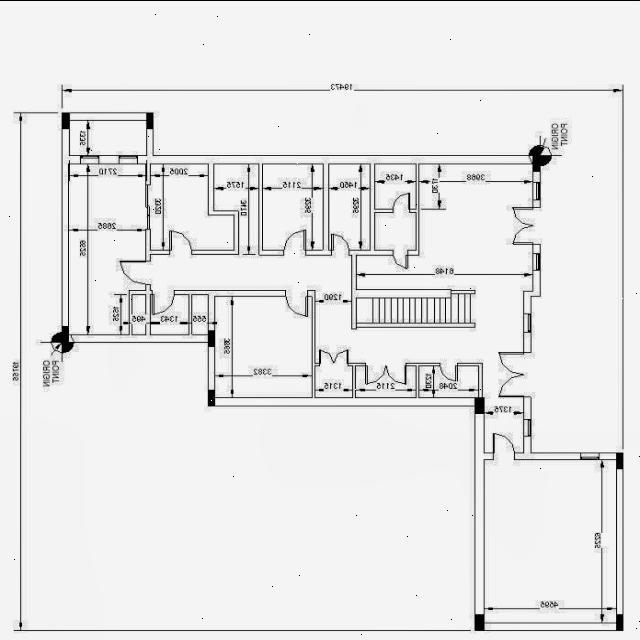Column: (474, 396, 484, 413), (474, 613, 484, 630), (61, 325, 70, 341), (616, 613, 624, 630), (532, 154, 540, 171), (62, 112, 70, 128), (616, 452, 624, 468), (146, 112, 154, 128), (208, 388, 215, 406), (208, 329, 215, 346)
Door: (283, 228, 313, 254), (119, 260, 151, 284), (285, 289, 313, 316), (150, 288, 175, 314), (493, 432, 515, 459), (170, 229, 192, 254), (328, 233, 349, 255), (392, 192, 410, 212), (440, 362, 458, 381), (392, 248, 408, 268)
Double-Door: (498, 351, 532, 396), (512, 206, 541, 244), (365, 362, 407, 384), (319, 348, 349, 366)
Sliding Door: (145, 183, 151, 229)
Staircase: (357, 289, 523, 322)
Window: (80, 154, 100, 164), (118, 154, 138, 164), (524, 312, 532, 332), (532, 181, 540, 199), (532, 252, 540, 270), (524, 418, 532, 436), (580, 452, 600, 459)
